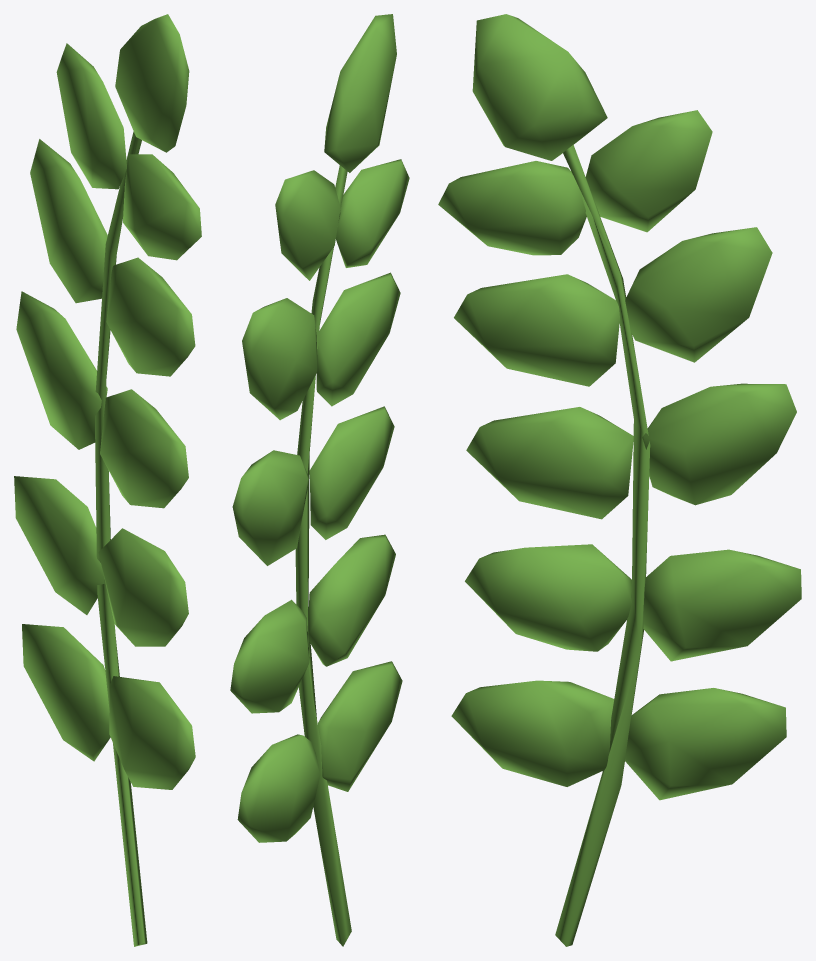
Rendered from Plant_6.fbx.
3 views of the same model, side by side, from view 1: azimuth 30°, elevation 25°; view 2: azimuth 150°, elevation 25°; view 3: azimuth 270°, elevation 25° (orthographic). The views are drawn at different scales.
Parts seen in each view (by area): view 1: Plant_6; view 2: Plant_6; view 3: Plant_6.
Part boxes in pixels (bbox=[...]): Plant_6: bbox=[14, 14, 201, 946]; Plant_6: bbox=[230, 14, 409, 946]; Plant_6: bbox=[438, 14, 801, 946].
Size of the model in its own units: 4.6 by 123 by 43.41.
